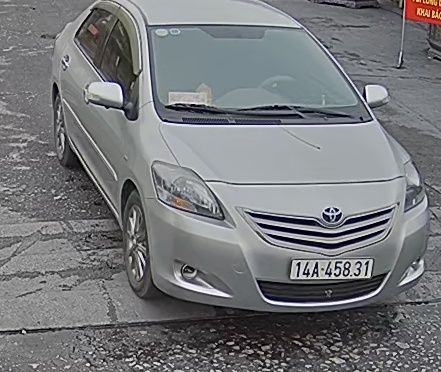vehicle plate: (287, 255, 378, 279)
